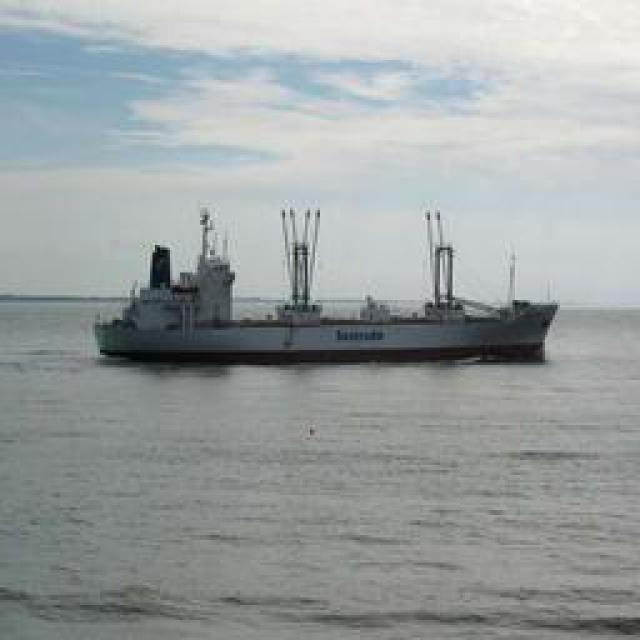Ship: (93, 195, 548, 368)
